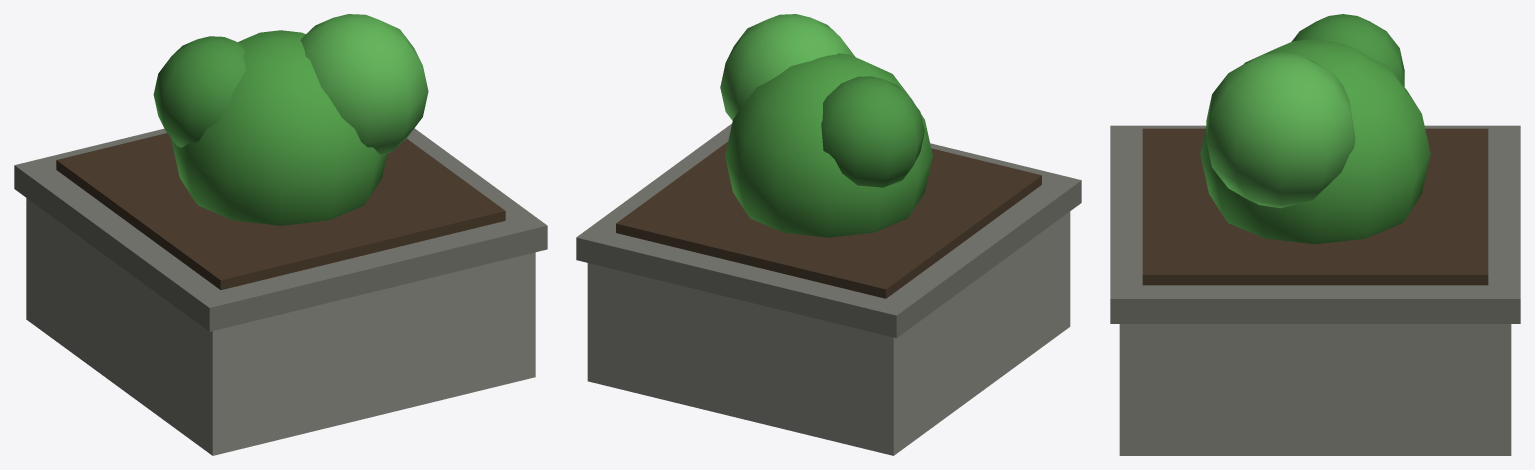
Rendered from planter.glb.
The picture shows the model from 3 angles, left to right: view 1: azimuth 30°, elevation 25°; view 2: azimuth 150°, elevation 25°; view 3: azimuth 270°, elevation 25°; orthographic projection. The views are drawn at different scales.
Parts seen in each view (by area): view 1: planter; view 2: planter; view 3: planter.
Boxes of the visible parts, left/top/right/bottom form: planter: left=14, top=14, right=547, bottom=455; planter: left=576, top=14, right=1081, bottom=455; planter: left=1110, top=14, right=1520, bottom=455.
Size of the model in its own units: 1.78 by 1.64 by 1.78.
